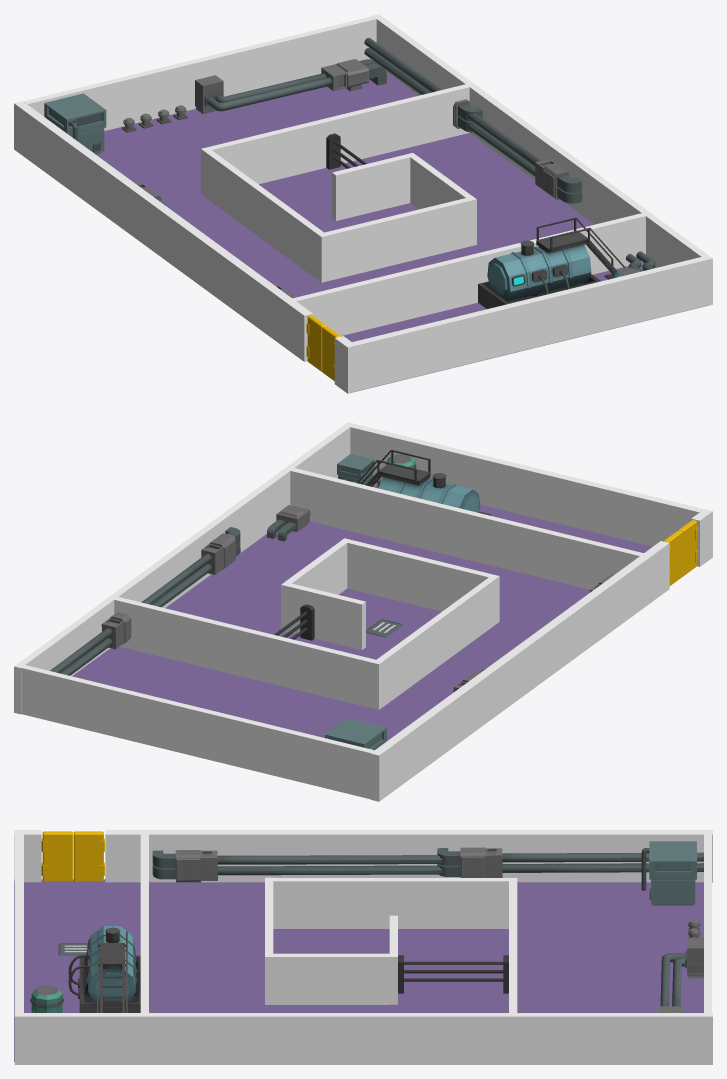
File: maps_46.fbx
The picture shows the model from 3 angles, top to bottom: view 1: azimuth 30°, elevation 25°; view 2: azimuth 150°, elevation 25°; view 3: azimuth 270°, elevation 25°; orthographic projection. The views are drawn at different scales.
Visible parts, largest first — view 1: wall_01_08_geo, wall_01_05_geo, wall_01_07_geo, wall_01_09_geo, wall_01_09_geo3, wall_01_09_geo6, wall_01_06_geo, wall_01_09_geo5, tankwater_geo, wall_01_11_geo6, generatorStation_03_geo1, wall_01_09_geo4 (+7 smaller); view 2: wall_01_08_geo, wall_01_09_geo, wall_01_07_geo, wall_01_09_geo3, wall_01_05_geo, wall_01_09_geo6, wall_01_06_geo, wall_01_11_geo6, wall_01_09_geo5, wall_01_09_geo4, tankwater_geo, generatorStation_03_geo5 (+7 smaller); view 3: wall_01_08_geo, wall_01_06_geo, wall_01_07_geo, wall_01_11_geo6, generatorStation_03_geo3, wall_01_11_geo9, tankwater_geo, generatorStation_03_geo2, generatorStation_05_geo, generatorStation_03_geo1, wall_01_05_geo, wall_01_09_geo3 (+12 smaller).
Boxes of the visible parts, <box> form: wall_01_08_geo: <box>96,72,708,392</box>; wall_01_05_geo: <box>352,257,705,391</box>; wall_01_07_geo: <box>14,101,312,361</box>; wall_01_09_geo: <box>23,16,376,130</box>; wall_01_09_geo3: <box>292,213,645,335</box>; wall_01_09_geo6: <box>208,84,469,184</box>; wall_01_06_geo: <box>372,14,712,306</box>; wall_01_09_geo5: <box>317,196,476,282</box>; tankwater_geo: <box>478,217,625,308</box>; wall_01_11_geo6: <box>201,147,323,279</box>; generatorStation_03_geo1: <box>195,59,386,113</box>; wall_01_09_geo4: <box>332,153,416,220</box>; wall_01_08_geo: <box>72,482,652,740</box>; wall_01_09_geo: <box>21,665,374,798</box>; wall_01_07_geo: <box>370,541,669,801</box>; wall_01_09_geo3: <box>290,468,643,589</box>; wall_01_05_geo: <box>350,424,703,546</box>; wall_01_09_geo6: <box>114,597,375,708</box>; wall_01_06_geo: <box>14,422,354,714</box>; wall_01_11_geo6: <box>372,577,495,709</box>; wall_01_09_geo5: <box>340,538,499,624</box>; wall_01_09_geo4: <box>281,582,365,649</box>; tankwater_geo: <box>357,449,491,515</box>; generatorStation_03_geo5: <box>141,527,240,607</box>; wall_01_08_geo: <box>14,879,703,1061</box>; wall_01_06_geo: <box>14,1013,712,1064</box>; wall_01_07_geo: <box>105,830,712,882</box>; wall_01_11_geo6: <box>273,878,517,928</box>; generatorStation_03_geo3: <box>152,850,442,882</box>; wall_01_11_geo9: <box>273,953,389,1004</box>; tankwater_geo: <box>68,926,140,1012</box>; generatorStation_03_geo2: <box>437,847,703,877</box>; generatorStation_05_geo: <box>641,841,696,905</box>; generatorStation_03_geo1: <box>657,938,703,1012</box>; wall_01_05_geo: <box>14,834,23,1012</box>; wall_01_09_geo3: <box>140,834,148,1012</box>.
Bounding box in the file's own units: 73.34 × 13.25 × 116.
7 materials, 7 textured.
